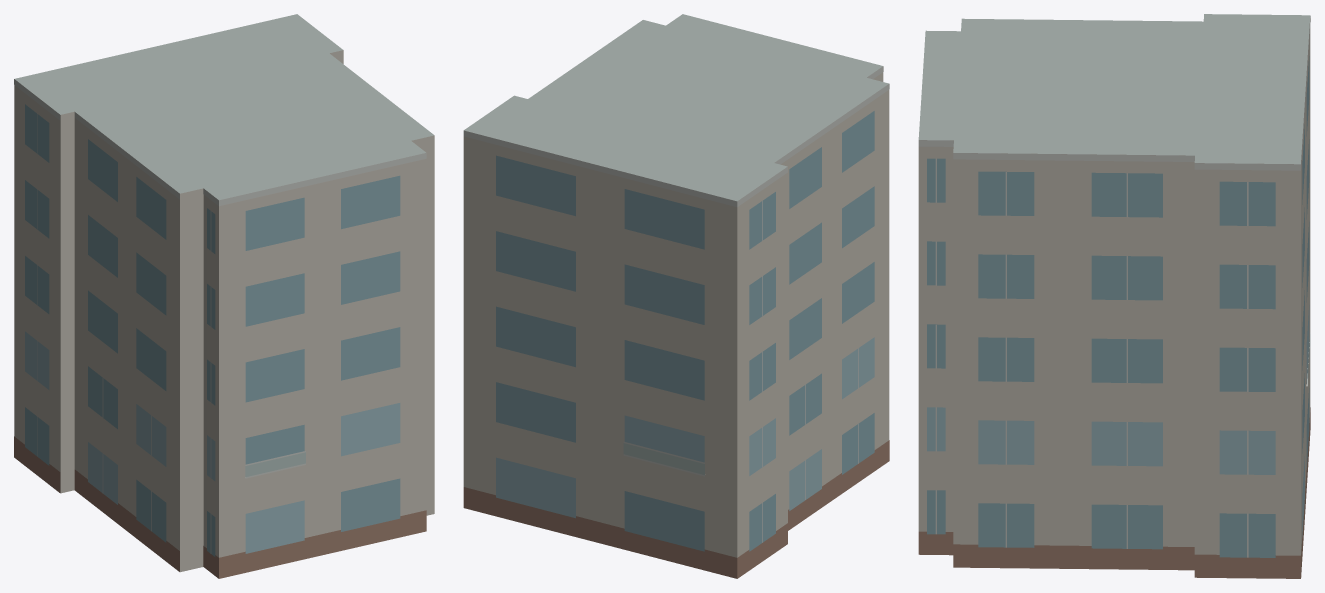
File: survey-upis-32784993.glb
3 views of the same model, side by side, from view 1: azimuth 30°, elevation 25°; view 2: azimuth 150°, elevation 25°; view 3: azimuth 270°, elevation 25° (orthographic). The views are drawn at different scales.
Parts seen in each view (by area): view 1: survey-upis-32784993.tmp; view 2: survey-upis-32784993.tmp; view 3: survey-upis-32784993.tmp.
Boxes of the visible parts, x1,y1,x2,y2 form: survey-upis-32784993.tmp: (14, 14, 434, 578); survey-upis-32784993.tmp: (463, 14, 889, 578); survey-upis-32784993.tmp: (918, 14, 1310, 578).
Bounding box in the file's own units: 12.09 × 15.55 × 13.32.
